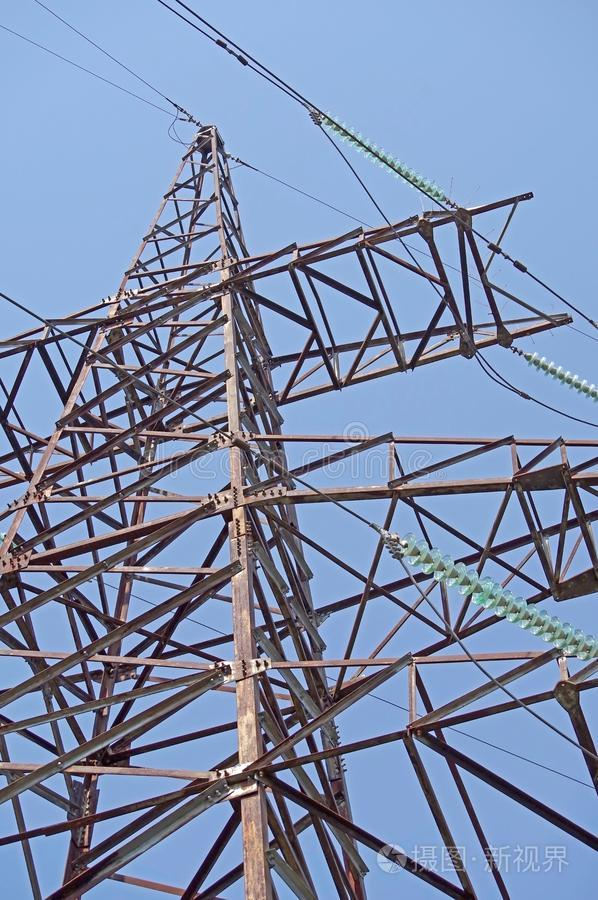insulator: (394, 531, 598, 667), (317, 112, 447, 203), (523, 352, 598, 397)
